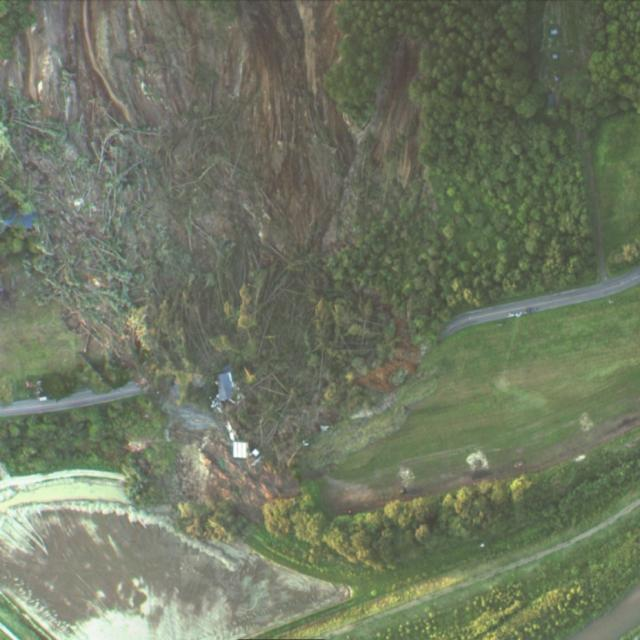landslide: (8, 1, 351, 304), (0, 472, 349, 640)
